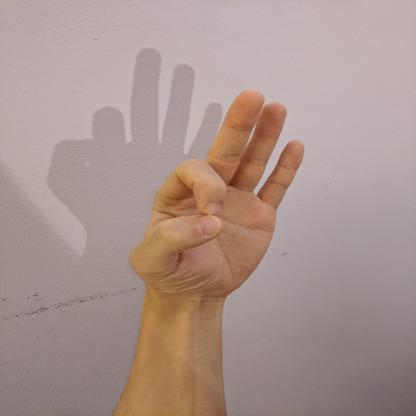F: (124, 86, 308, 302)
